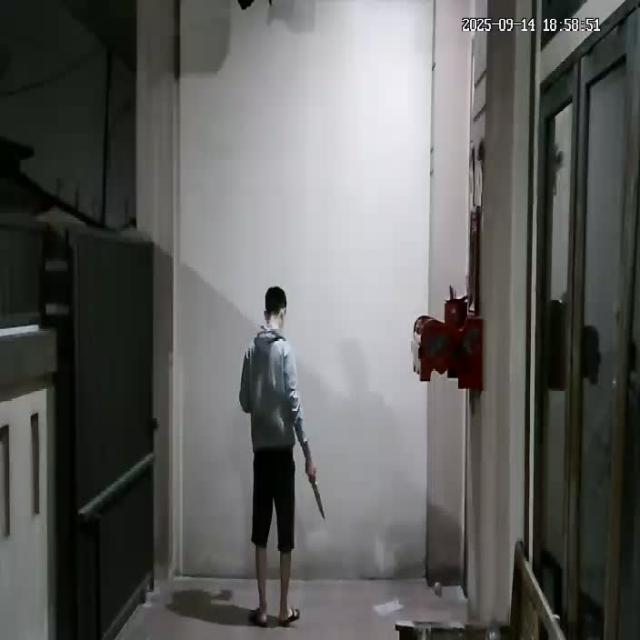senjata_tajam: (311, 478, 327, 521)
